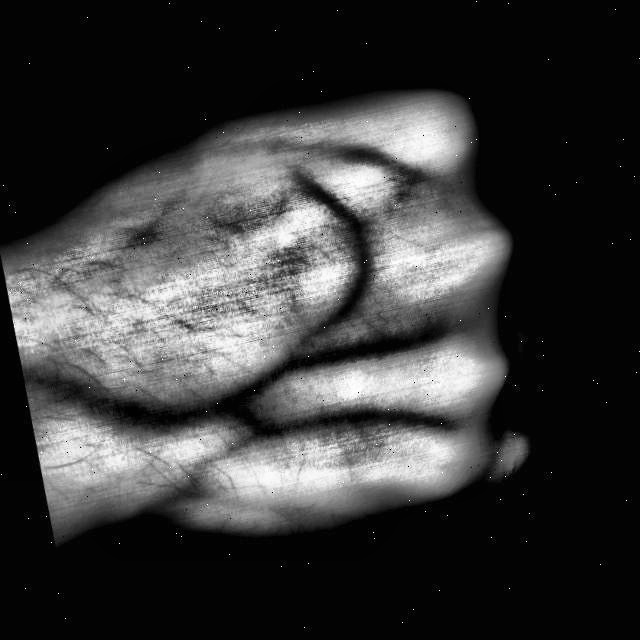Vein: (152, 326, 366, 443)
